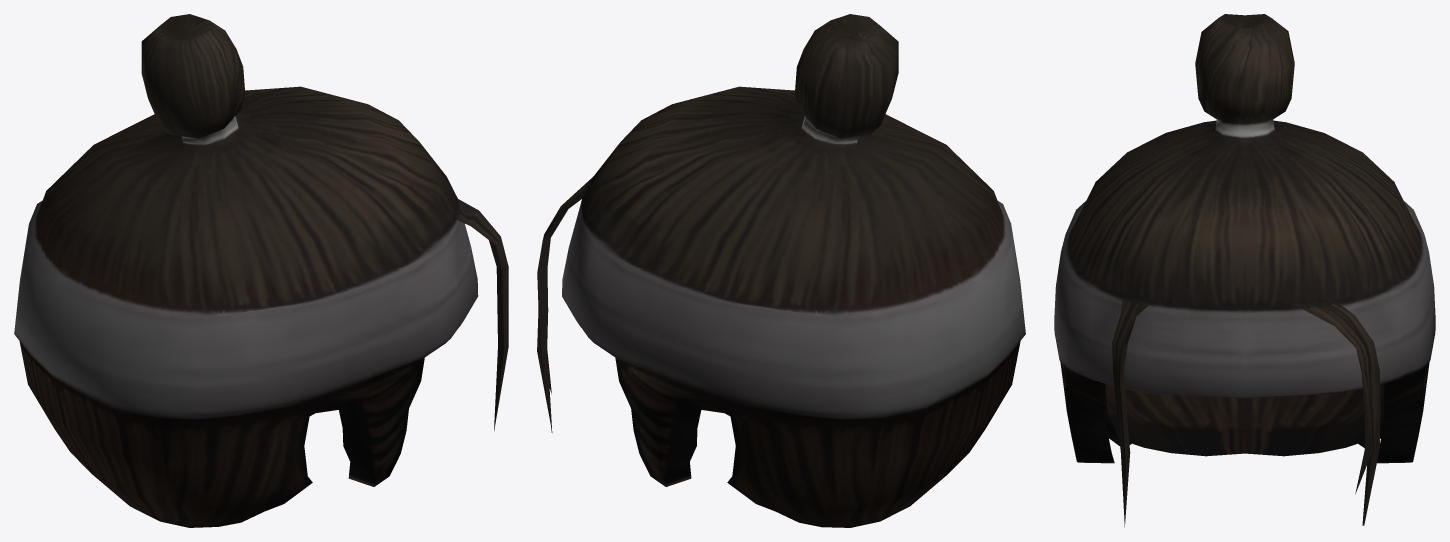
Rendered from set_hairstyle_020.FBX.
3 renders of one model, left to right at view 1: azimuth 30°, elevation 25°; view 2: azimuth 150°, elevation 25°; view 3: azimuth 270°, elevation 25°, orthographic. The views are drawn at different scales.
Visible parts, largest first — view 1: set_hairstyle_020; view 2: set_hairstyle_020; view 3: set_hairstyle_020.
Part boxes in pixels (x1=…): set_hairstyle_020: x1=14, y1=14, x2=508, y2=527; set_hairstyle_020: x1=537, y1=14, x2=1025, y2=527; set_hairstyle_020: x1=1054, y1=14, x2=1435, y2=527.
Bounding box in the file's own units: 57.91 × 66.17 × 51.01.
